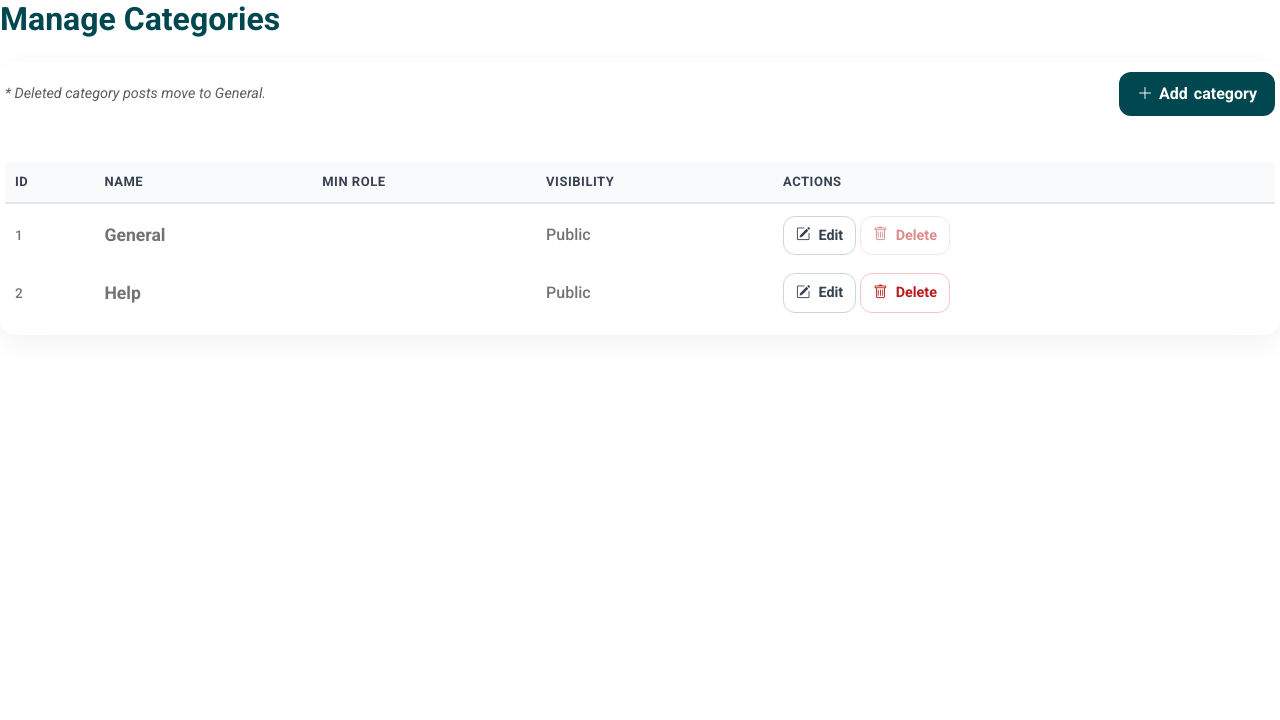
it: AdminCategories.vue › Edit button opens the form with the category name prefilled
Click the 1st button with class "btn-action": (820, 235) [783,216,856,255]
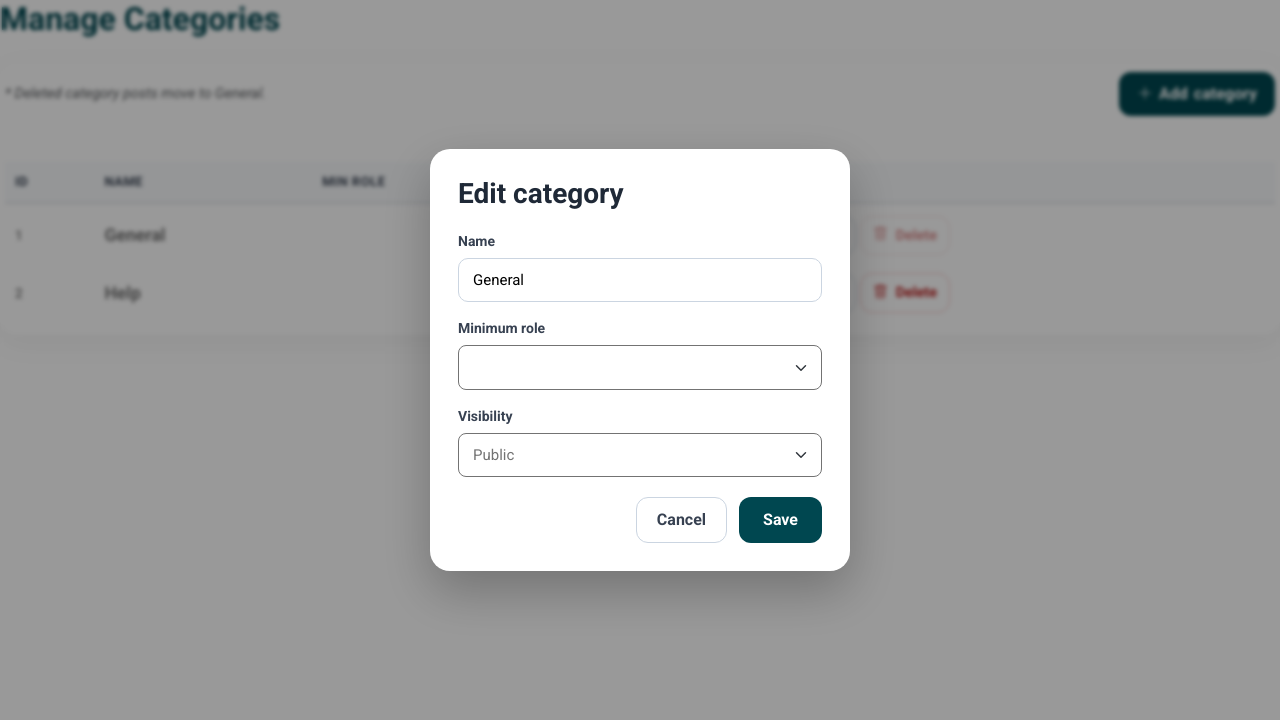
Result: the heading with class "form-title" reads "Edit category" at [458,177,624,210]
Result: the field with class "form-input" holds "General" at [458,258,822,302]
